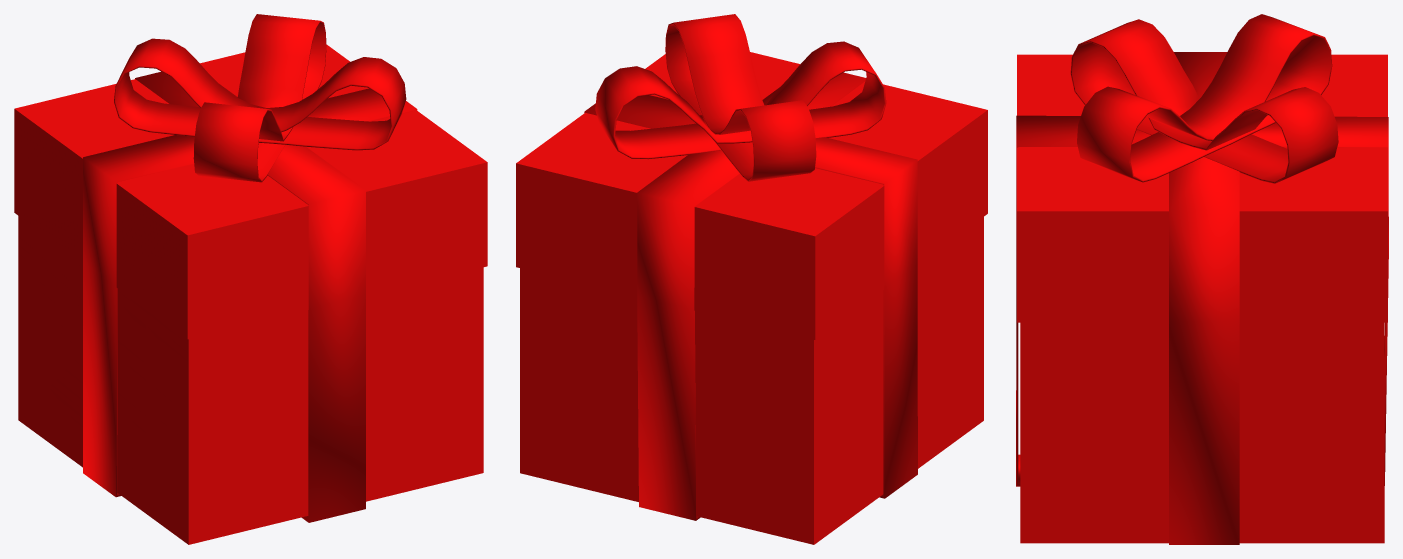
File: gift3.fbx
3 renders of one model, left to right at view 1: azimuth 30°, elevation 25°; view 2: azimuth 150°, elevation 25°; view 3: azimuth 270°, elevation 25°, orthographic. The views are drawn at different scales.
Visible parts, largest first — view 1: gift; view 2: gift; view 3: gift.
Boxes of the visible parts, x1,y1,x2,y2 form: gift: [14, 14, 487, 544]; gift: [516, 14, 987, 544]; gift: [1016, 14, 1388, 544].
Bounding box in the file's own units: 2.05 × 2.51 × 2.05.
